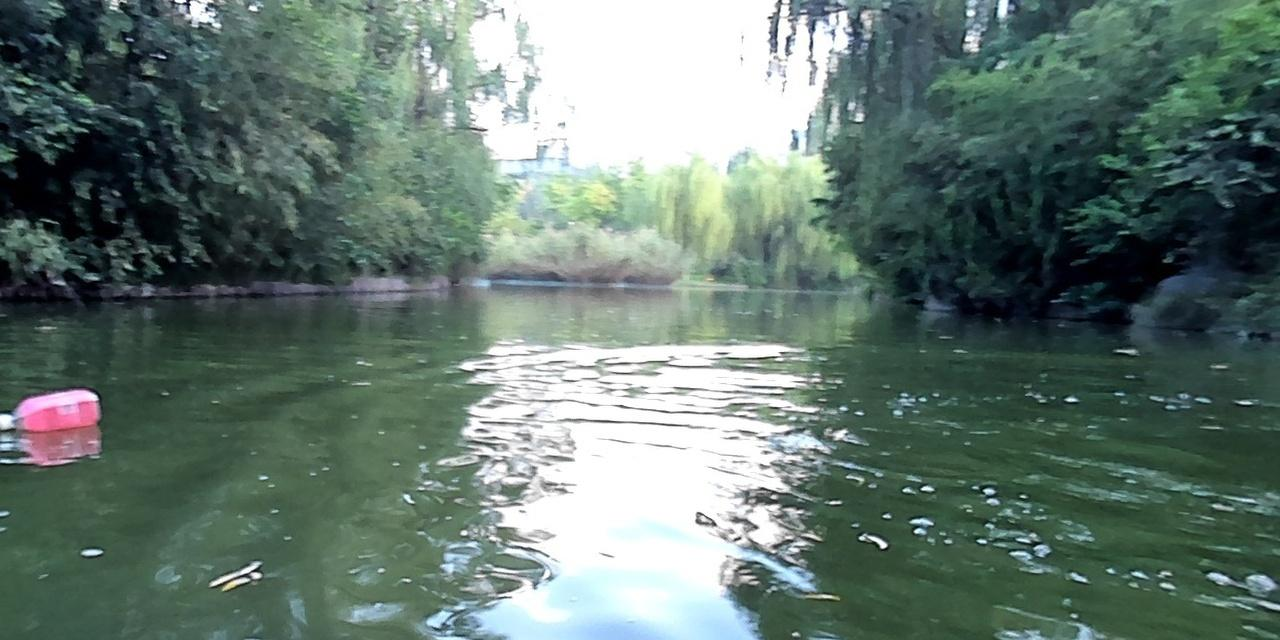bottle: (0, 387, 102, 430)
